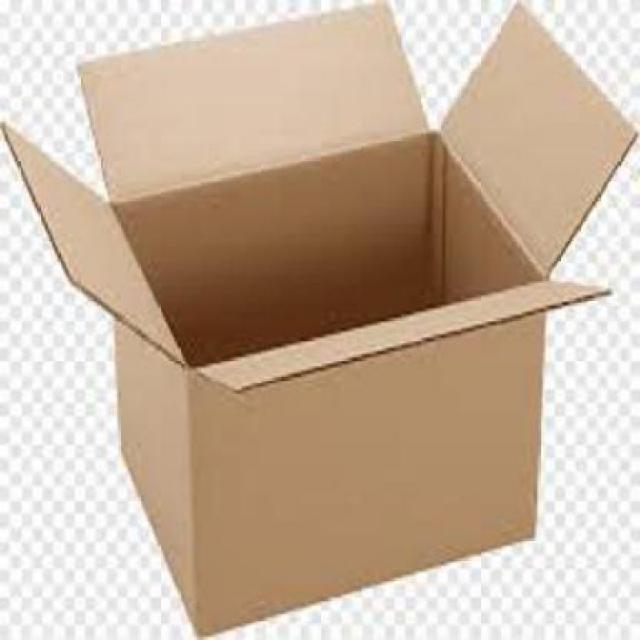box: (16, 7, 640, 639)
